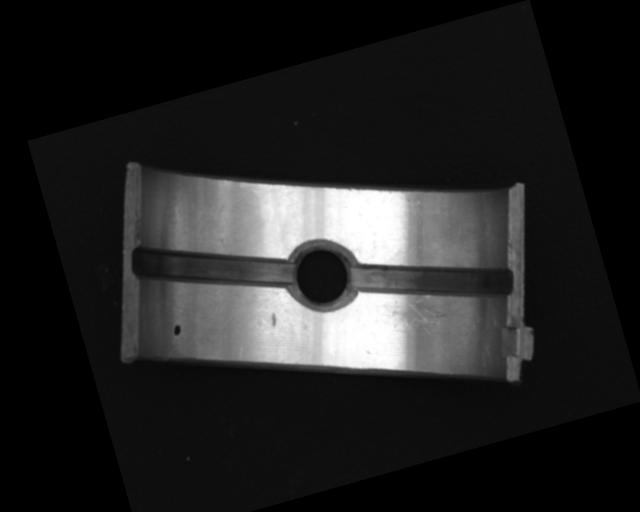blot: (170, 323, 183, 338)
bruise: (269, 312, 279, 327)
gap: (127, 211, 297, 323), (347, 226, 518, 335)
hole: (280, 235, 362, 316)
scratch: (377, 281, 472, 347)
